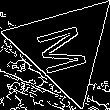M_E: (33, 18, 95, 76)
